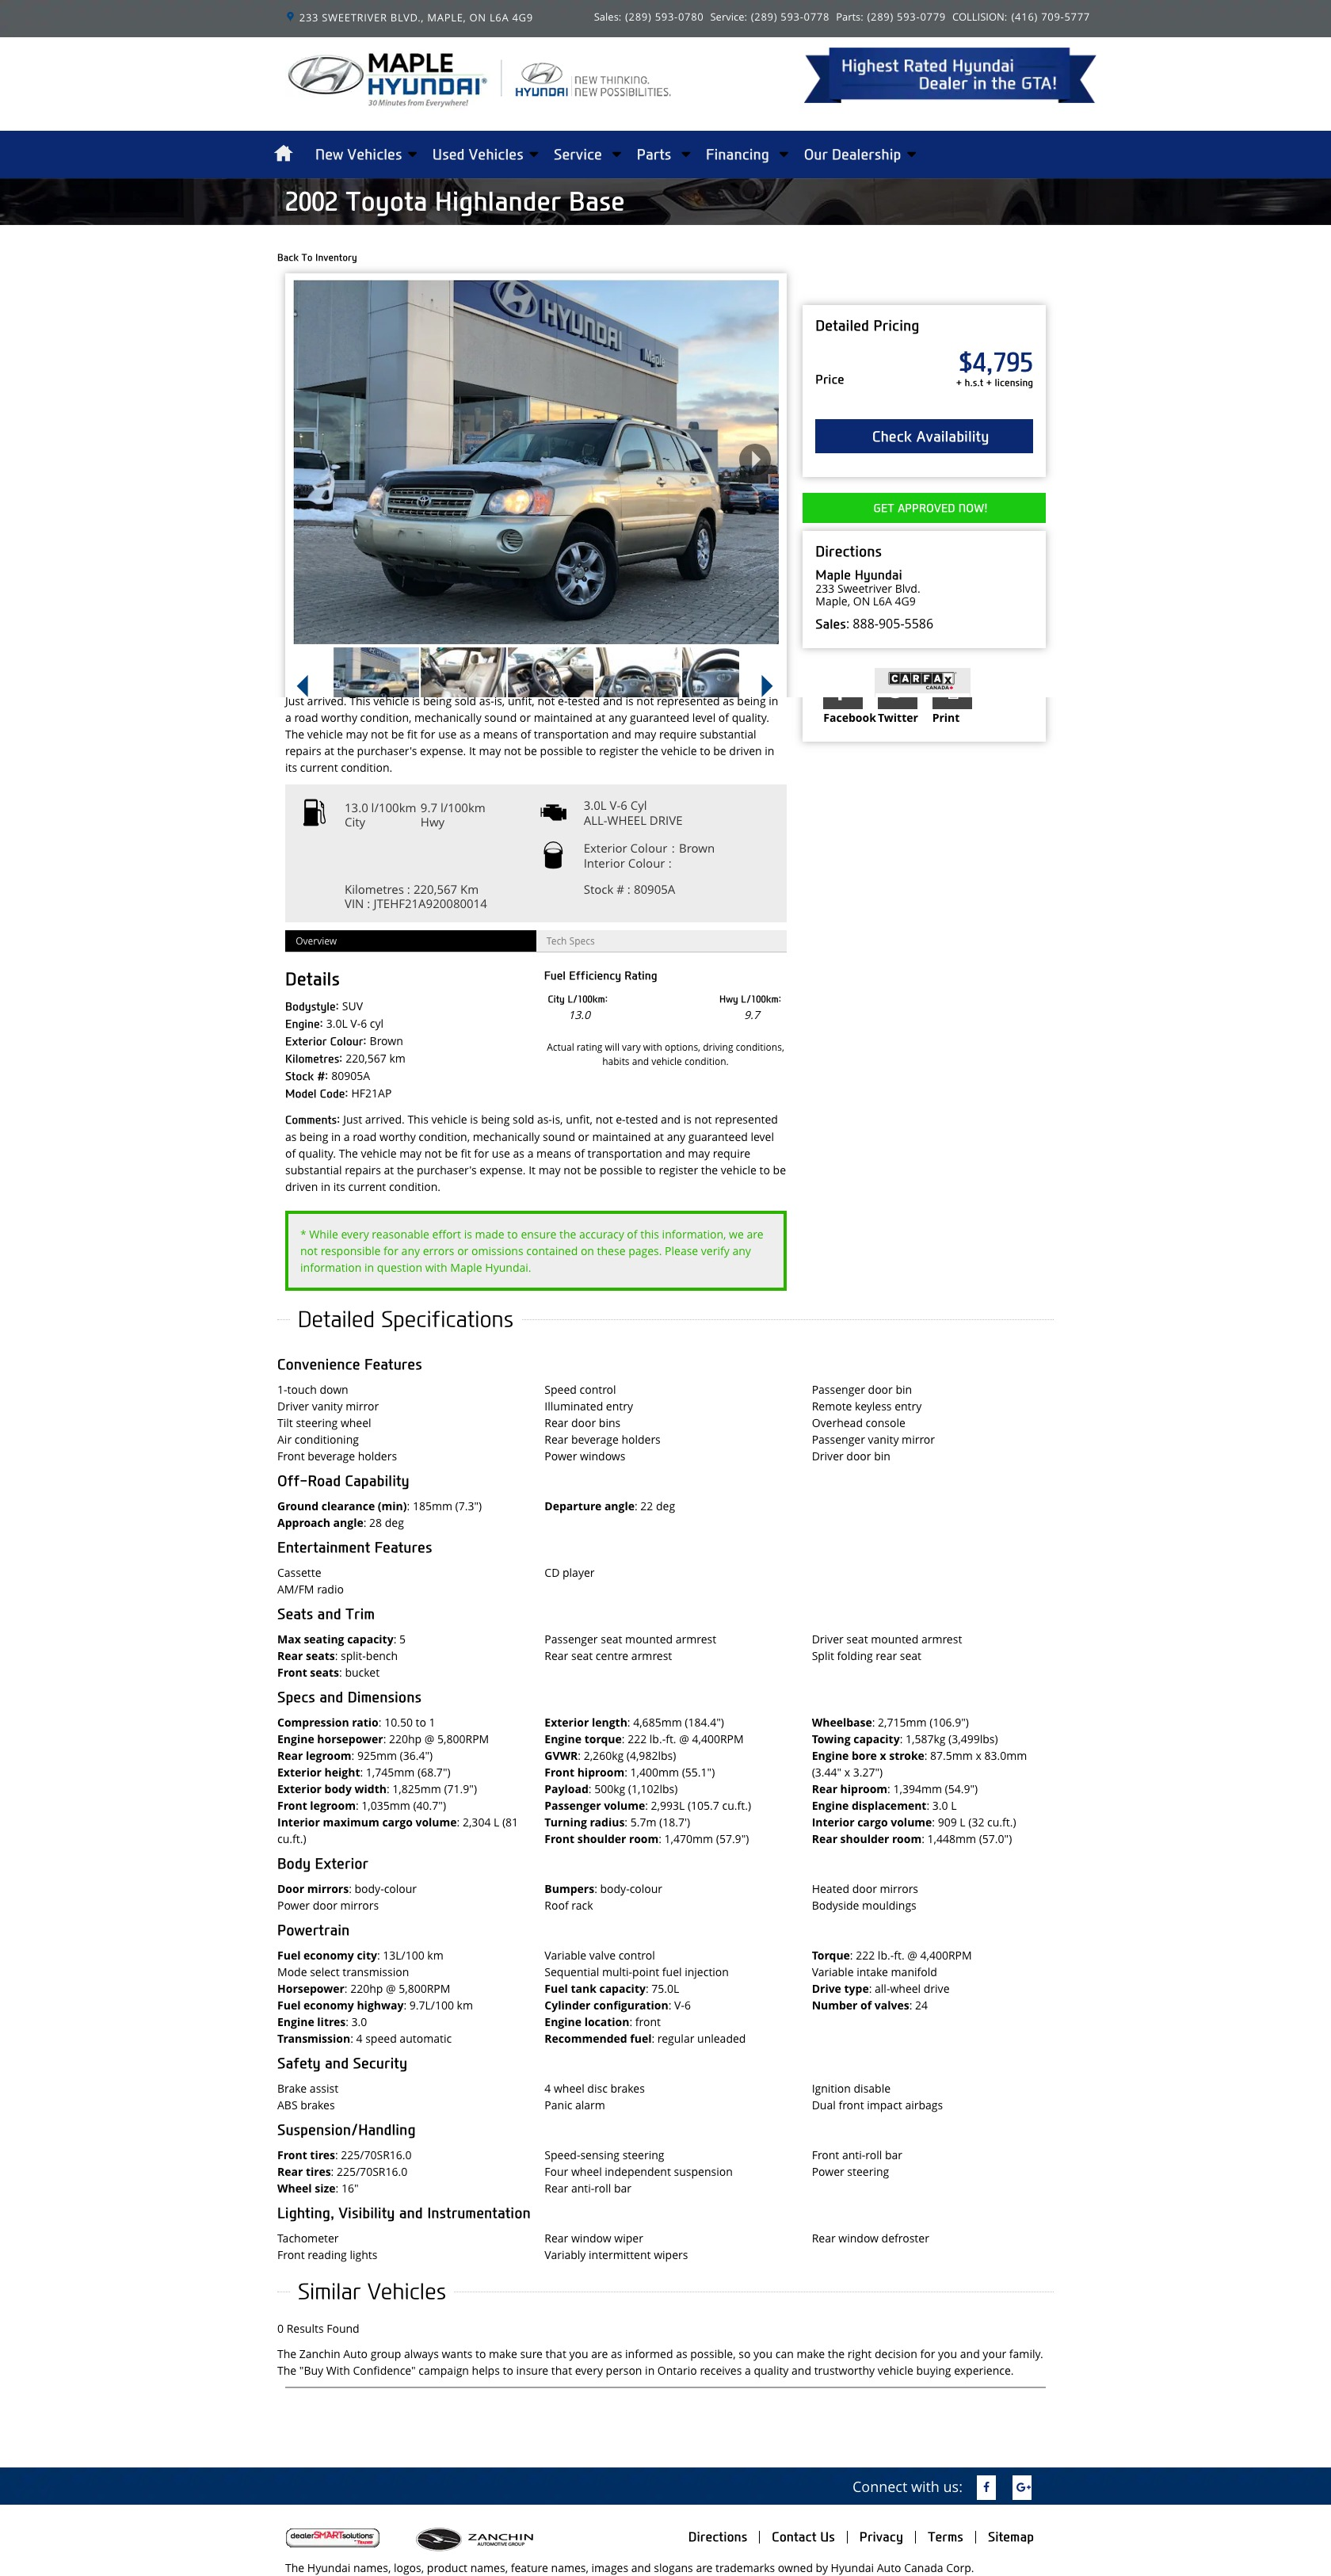car: (761, 674, 774, 696)
